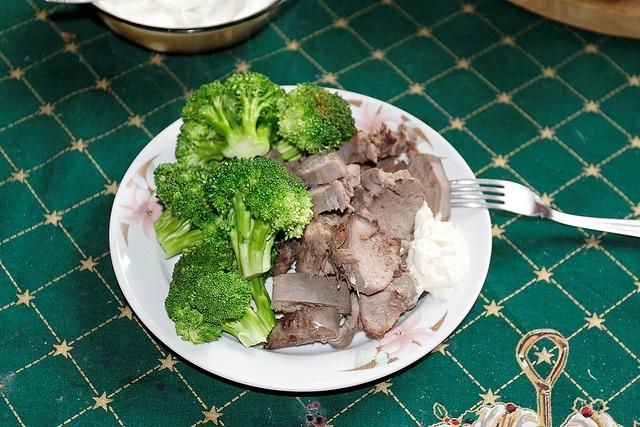broccoli: (203, 156, 313, 280), (175, 71, 286, 172), (164, 250, 268, 348), (154, 162, 224, 256), (276, 82, 358, 162)
